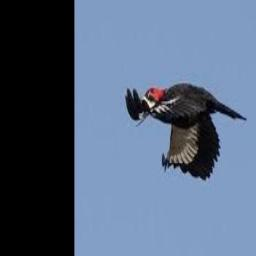Woodpecker: (126, 82, 248, 181)
